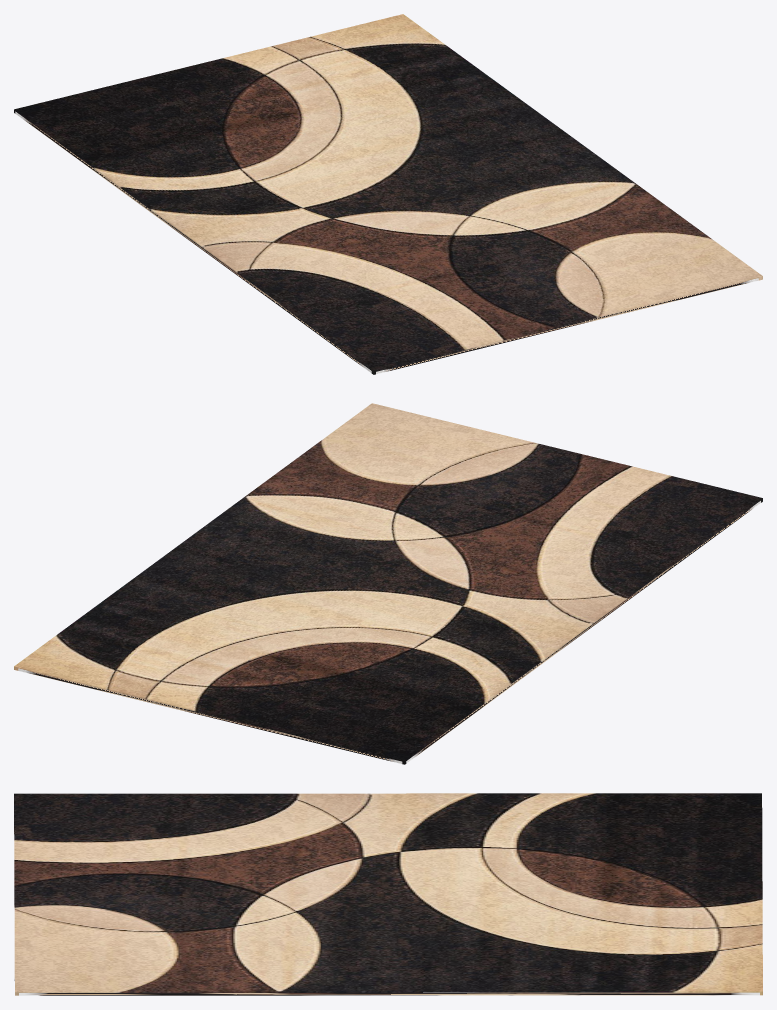
Rendered from alfombra.glb.
The picture shows the model from 3 angles, top to bottom: view 1: azimuth 30°, elevation 25°; view 2: azimuth 150°, elevation 25°; view 3: azimuth 270°, elevation 25°; orthographic projection. The views are drawn at different scales.
Parts seen in each view (by area): view 1: Tapete_RugTexture_0; view 2: Tapete_RugTexture_0; view 3: Tapete_RugTexture_0.
Boxes of the visible parts, box(x1,y1,x2,y2) form: Tapete_RugTexture_0: box(14, 14, 762, 374); Tapete_RugTexture_0: box(14, 403, 762, 764); Tapete_RugTexture_0: box(14, 793, 762, 995).
Size of the model in its own units: 1.29 by 0.0108 by 2.06.
1 material, 1 textured.
